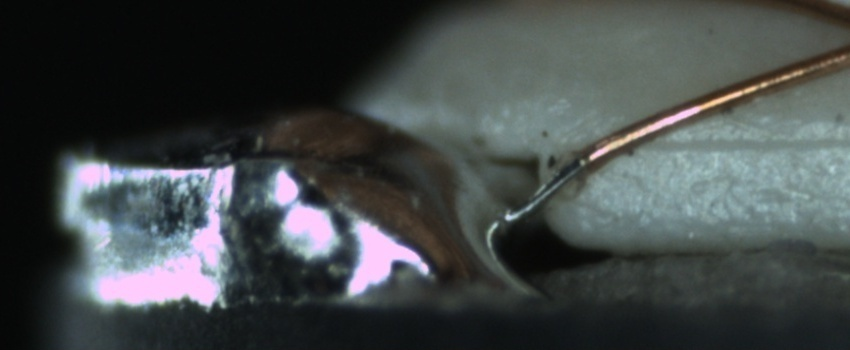DL: (639, 110, 850, 174)
TS: (508, 157, 591, 225)
TTCW: (507, 129, 621, 229)
